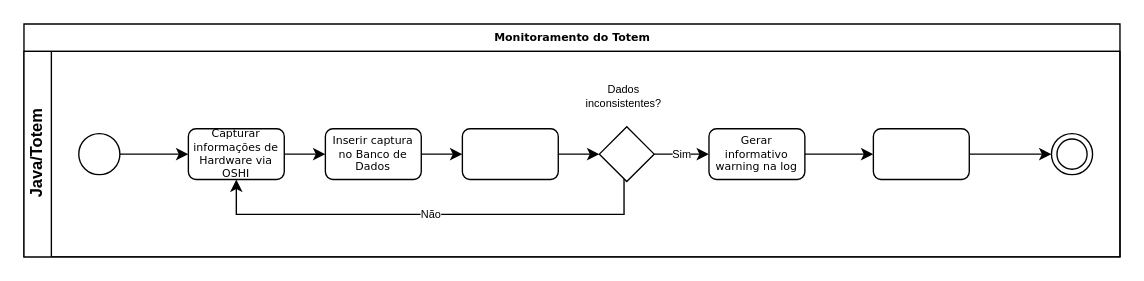
Some shapes in this 1144 by 281 pixel diagram are drawn without their labels. The centre of each missing label's shape, as x and y in pixels:
"Enviar notifição via Slack" belongs at point 920,153.
"Ler os dados através do Analytics" belongs at point 509,153.
